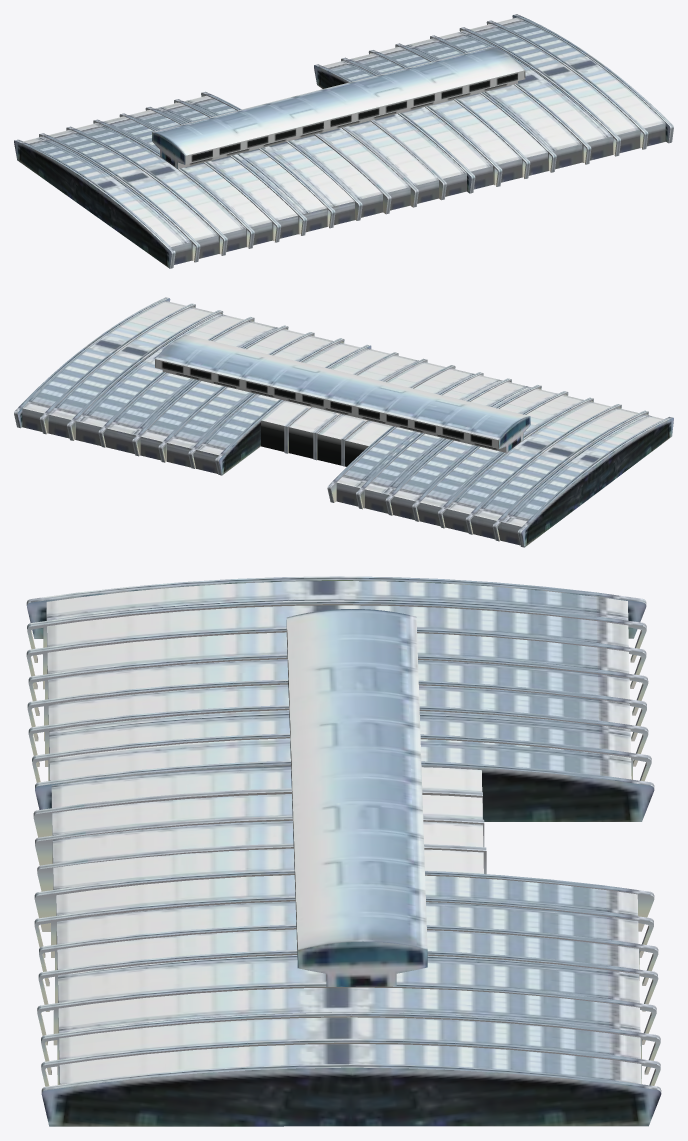
File: convention_exibition_center_4acfaf83.glb
The picture shows the model from 3 angles, top to bottom: view 1: azimuth 30°, elevation 25°; view 2: azimuth 150°, elevation 25°; view 3: azimuth 270°, elevation 25°; orthographic projection. The views are drawn at different scales.
Visible parts, largest first — view 1: convention_exibition_center_4acfaf83; view 2: convention_exibition_center_4acfaf83; view 3: convention_exibition_center_4acfaf83.
Part boxes in pixels (left/top/right/bottom): convention_exibition_center_4acfaf83: left=14, top=14, right=673, bottom=268; convention_exibition_center_4acfaf83: left=14, top=297, right=673, bottom=547; convention_exibition_center_4acfaf83: left=26, top=576, right=661, bottom=1126.
Bounding box in the file's own units: 554 × 54.92 × 301.
1 material, 1 textured.
